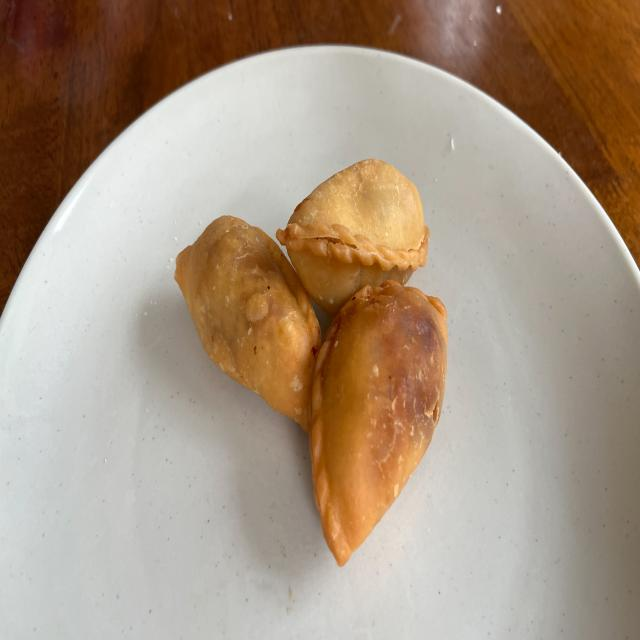karipap: (310, 280, 448, 567), (175, 216, 321, 431), (276, 158, 429, 316)
